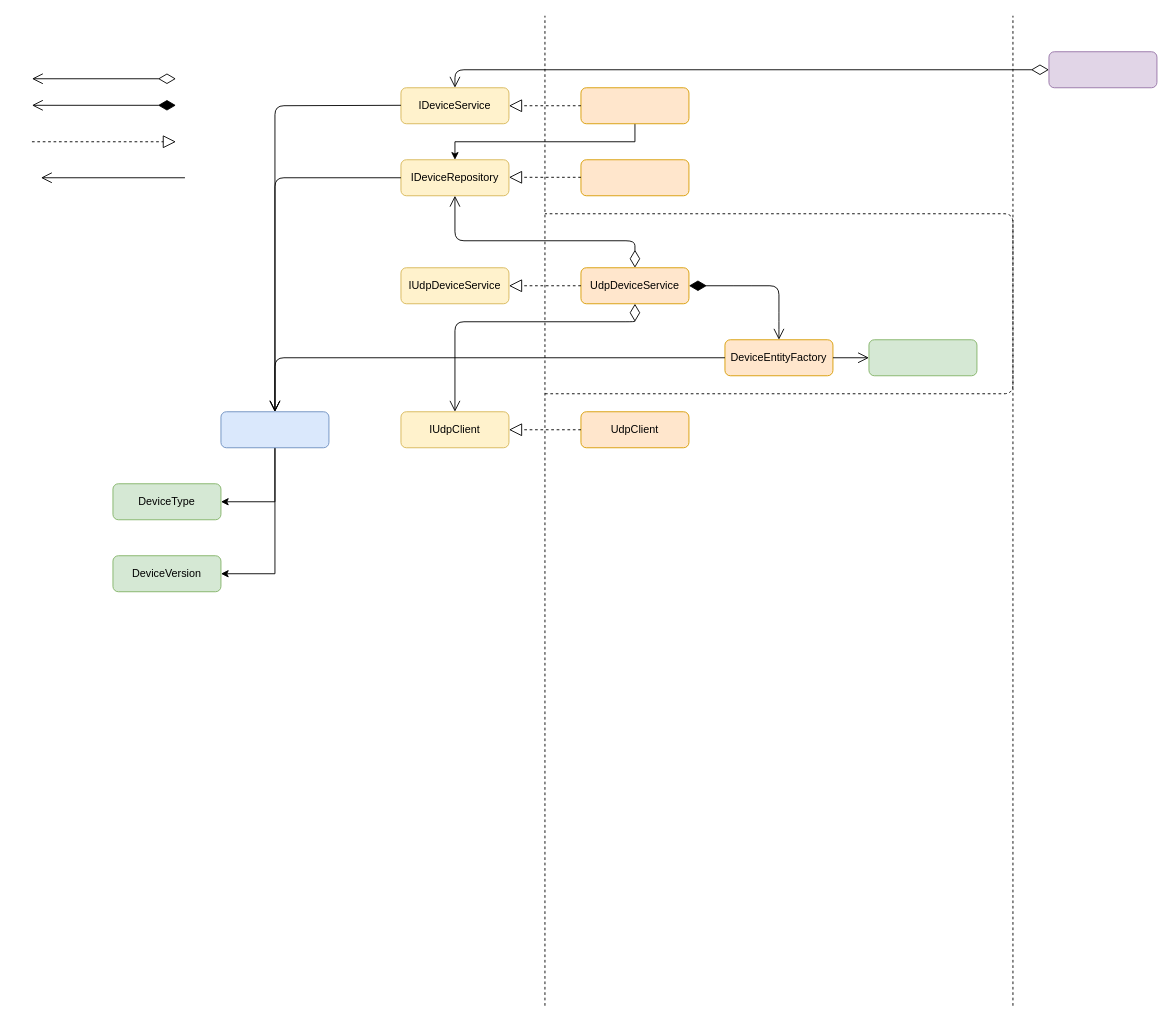
Image size: 1173x1022. Some labels were removed from this diagram. Each missing label, with the centre of its shape:
"DeviceController" belongs at point (1102, 69).
"DeviceEntity" belongs at point (274, 429).
"DeviceRepository" belongs at point (634, 177).
"DeviceService" belongs at point (634, 105).
"UdpDeviceInfo" belongs at point (922, 357).
